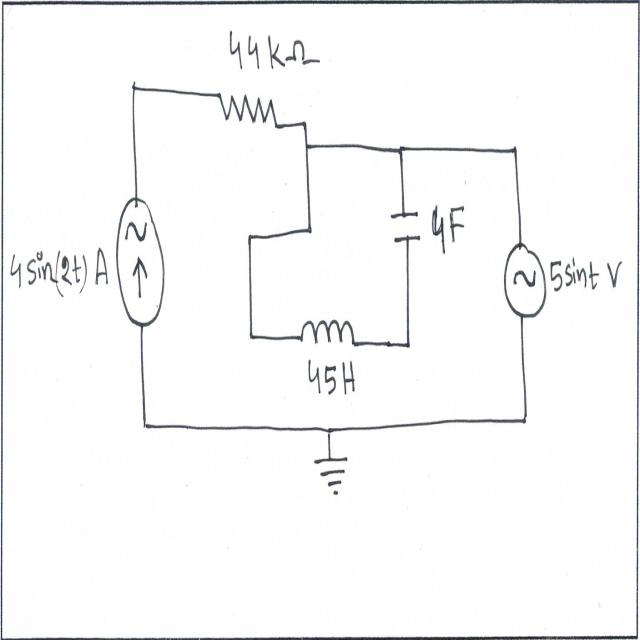ac_current: (501, 238, 551, 326)
capacitor: (388, 201, 422, 254)
current_source: (115, 192, 167, 336)
ground: (310, 443, 352, 504)
inductor: (298, 312, 356, 353)
resistor: (216, 79, 278, 141)
